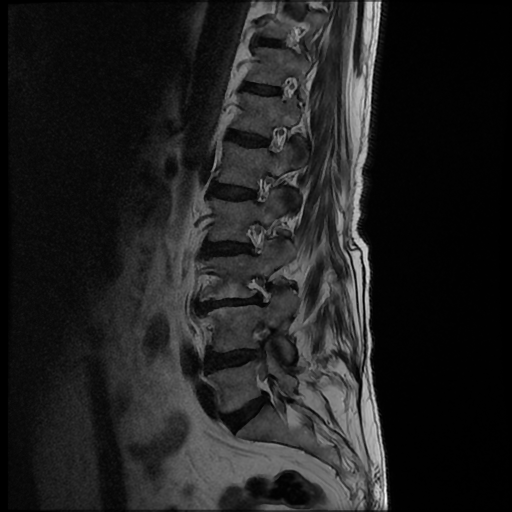LFS0: (236, 213, 276, 260), (246, 167, 286, 210)
